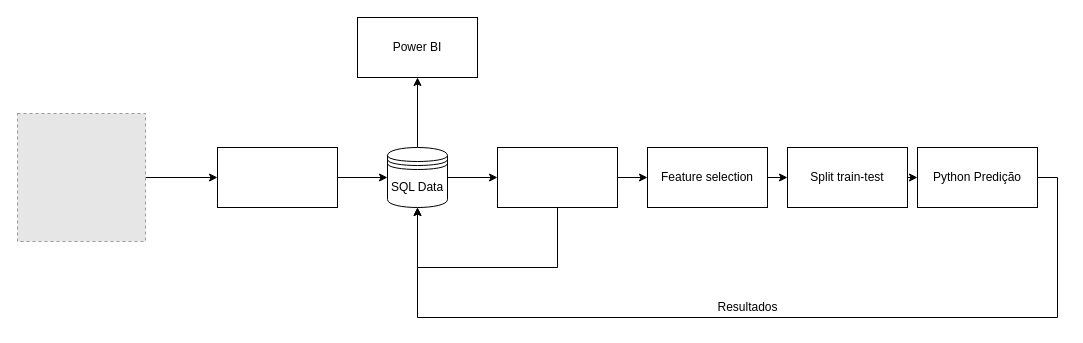
The diagram is 1083 pixels wide and 343 high, and some of its shapes have lost their labels. Grey dashed boxes stand in for pictures. The centre of each missing label's shape, as x and y in pixels:
Python sql: the point at 277,177
Python Tratamento: the point at 557,177
